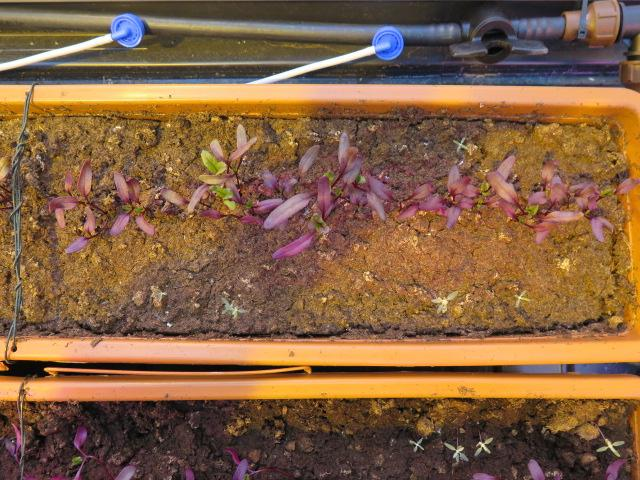weed: (426, 287, 459, 315), (591, 434, 625, 460), (441, 439, 468, 466), (508, 285, 532, 309), (472, 433, 494, 456), (449, 132, 470, 154), (406, 431, 425, 453), (149, 282, 167, 303)
